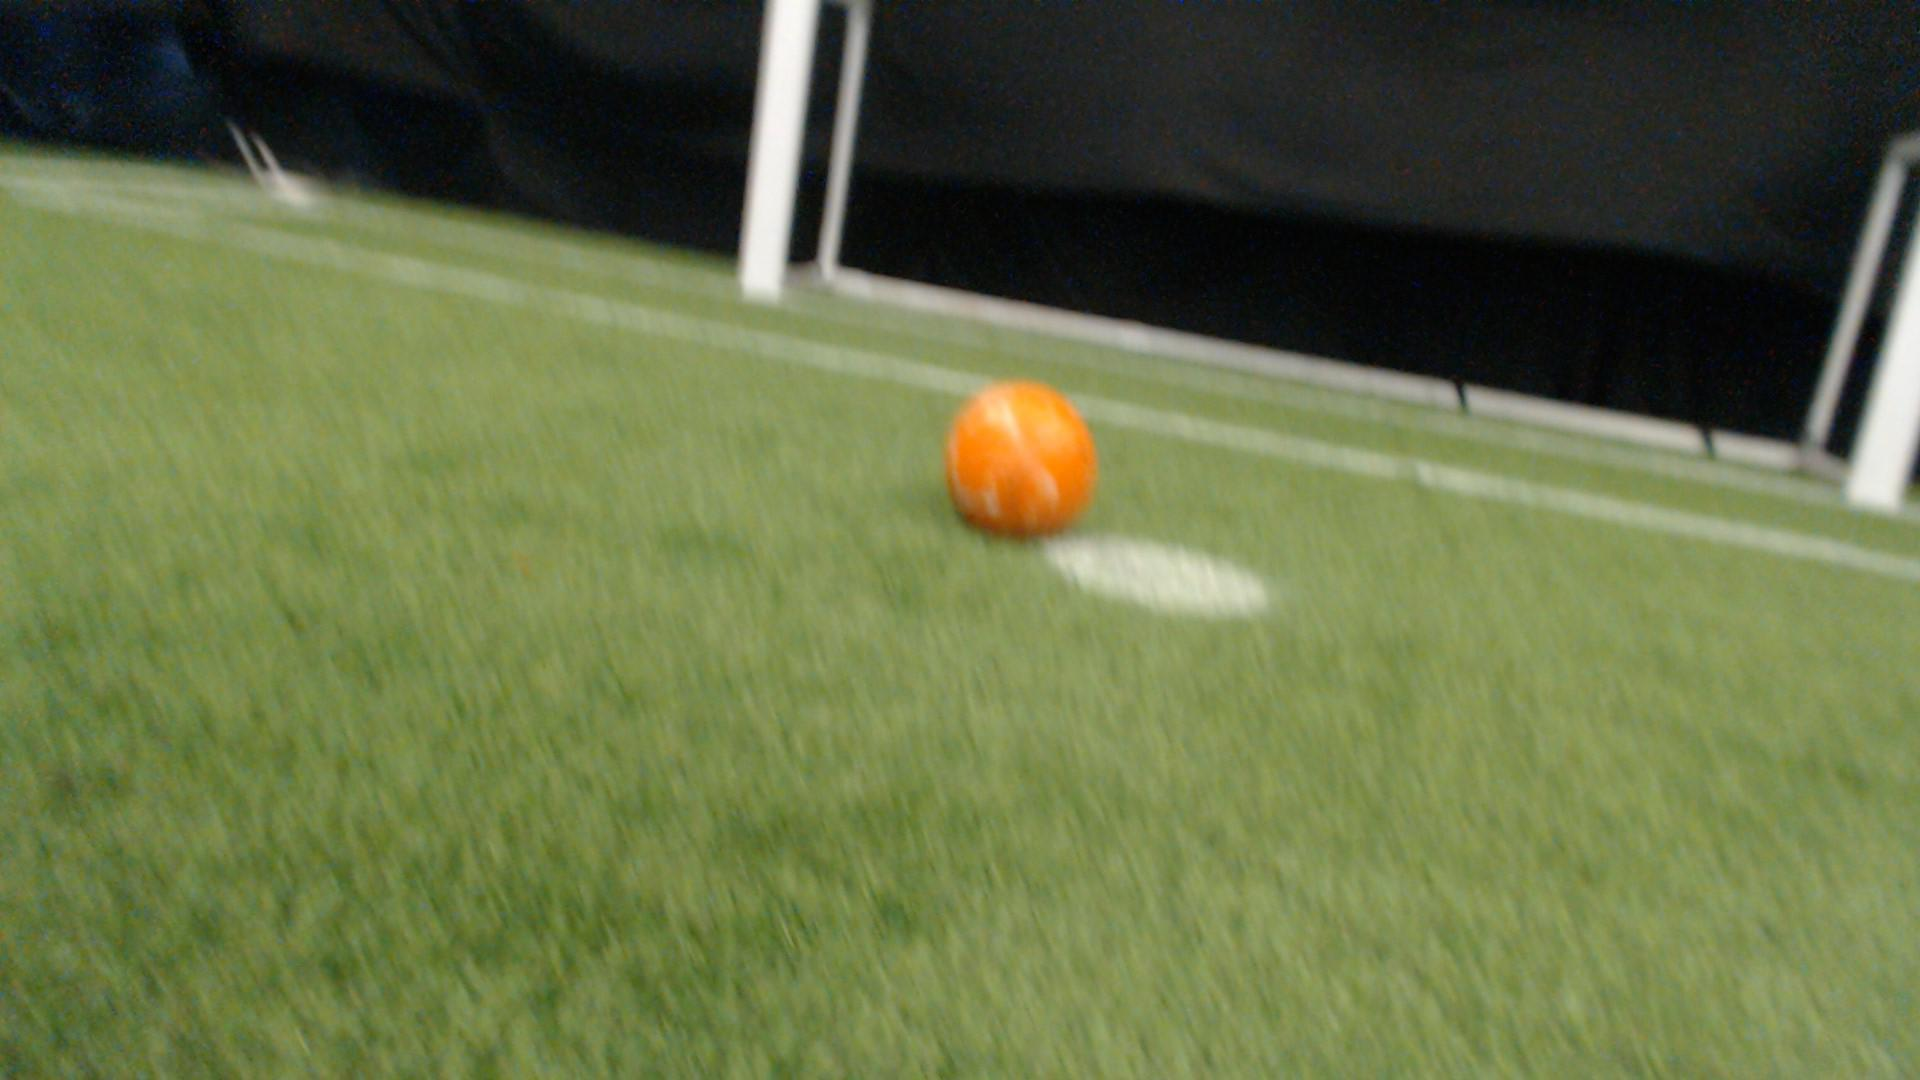bola: (924, 363, 1101, 562)
